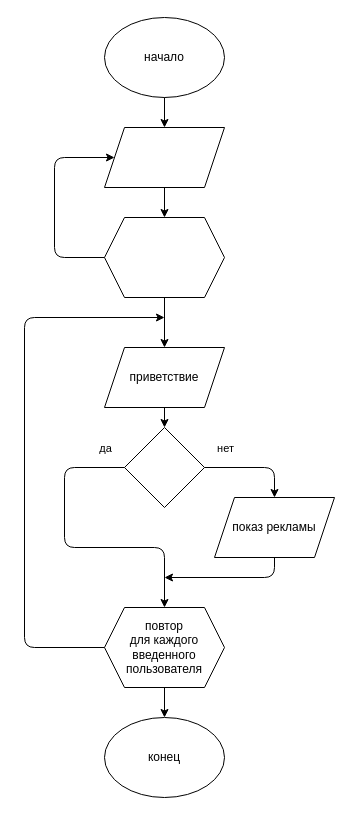
Image size: 352x815. Some labels were removed from this diagram. Each missing label, with the centre of its shape:
"введите данные о пользователе" goes at point (164, 157).
"повтор до тех пор, пока ввод не завешен" goes at point (164, 257).
"премиум?" goes at point (164, 467).
